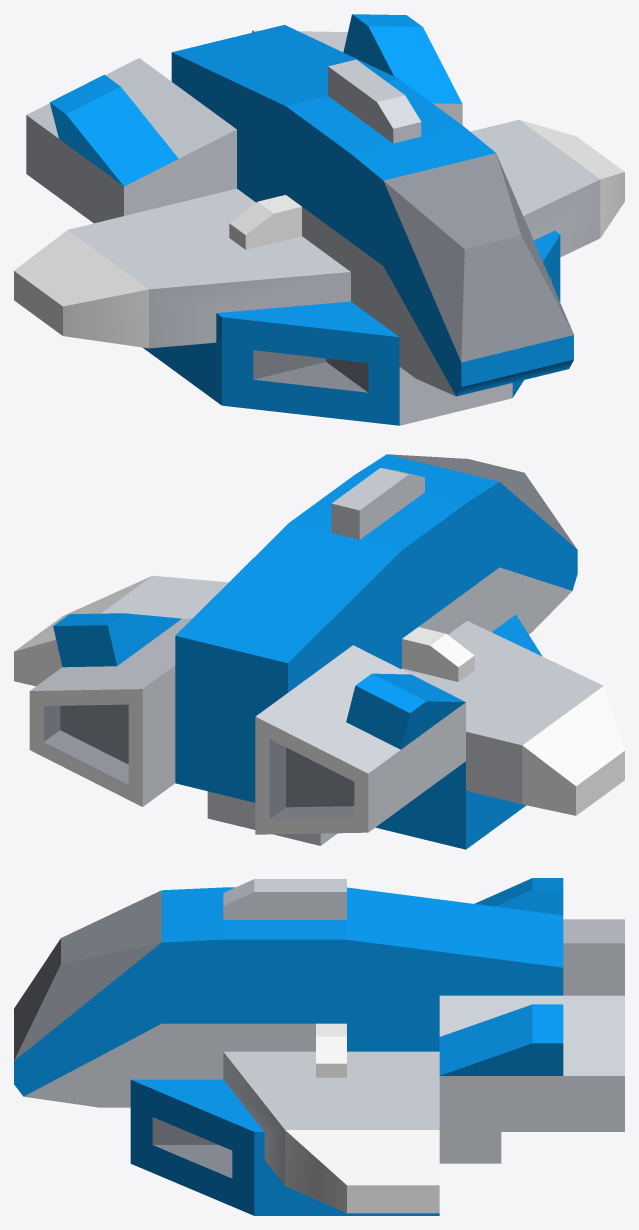
The model's file is Player Plane 2.fbx.
The picture shows the model from 3 angles, top to bottom: view 1: azimuth 30°, elevation 25°; view 2: azimuth 150°, elevation 25°; view 3: azimuth 270°, elevation 25°; orthographic projection. The views are drawn at different scales.
Parts seen in each view (by area): view 1: craft_speederD; view 2: craft_speederD; view 3: craft_speederD.
Part boxes in pixels (box(x1,y1,x2,y2)): craft_speederD: box(14, 14, 624, 425); craft_speederD: box(14, 454, 624, 849); craft_speederD: box(14, 878, 624, 1215).
Bounding box in the file's own units: 199 × 90 × 198.
